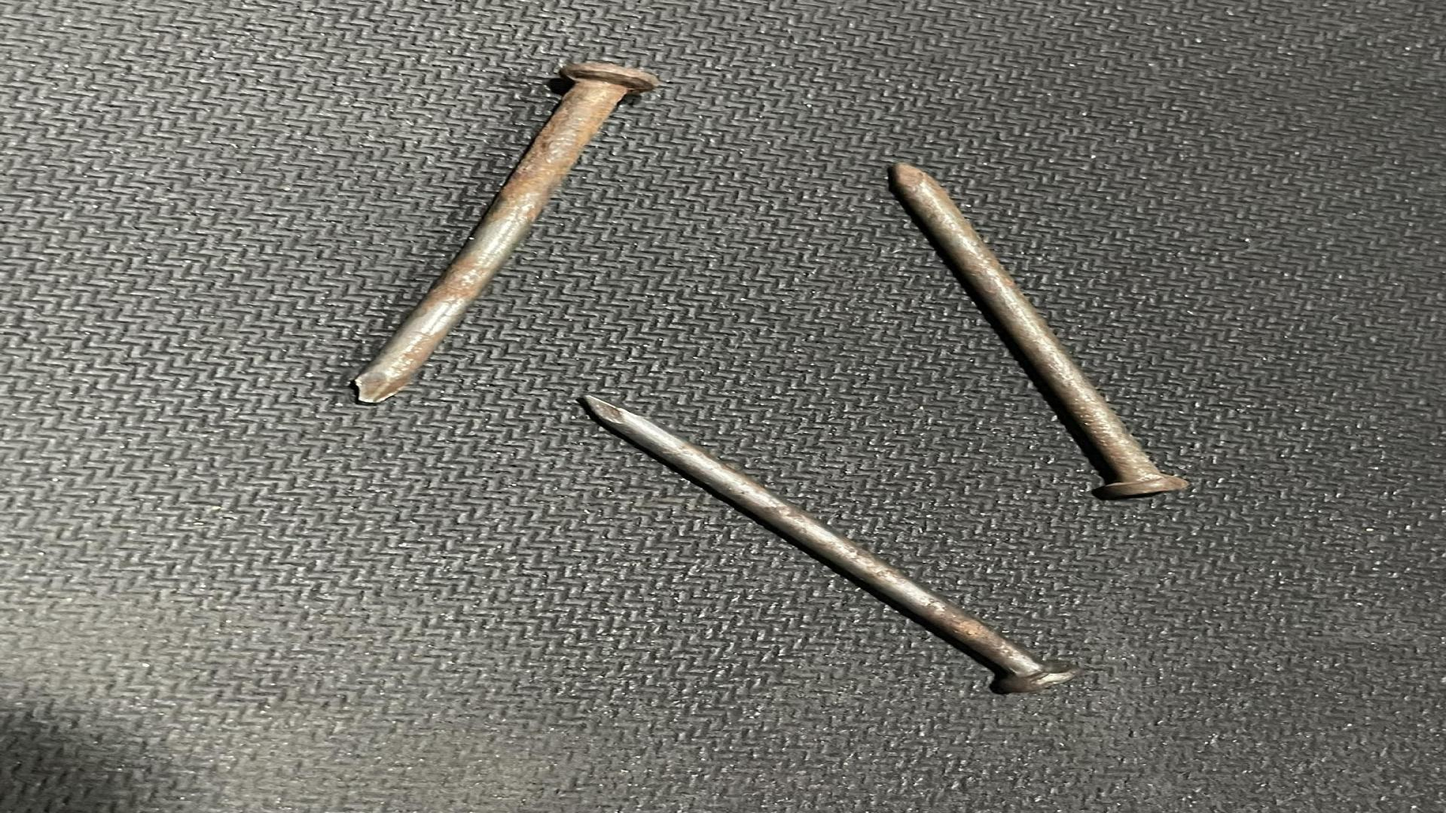nail: (555, 399, 1106, 699), (862, 159, 1238, 502), (306, 57, 668, 405)
